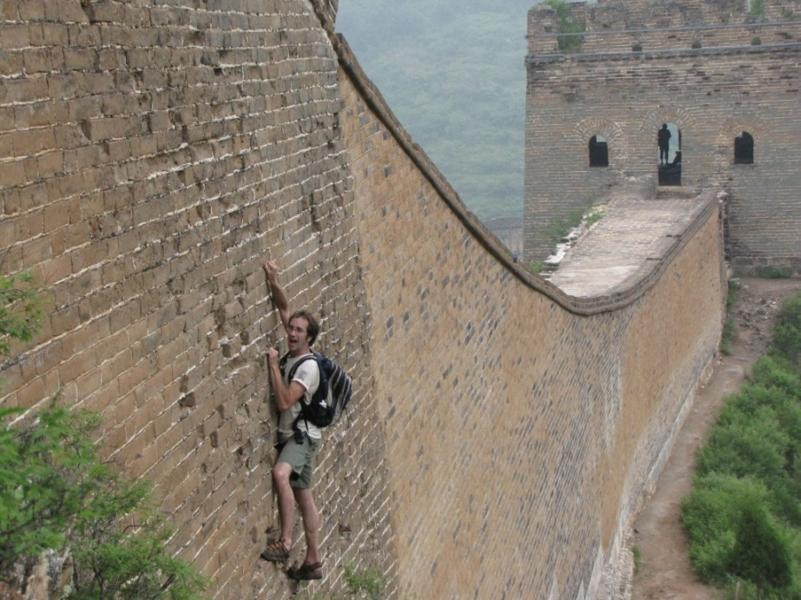person: (263, 257, 330, 580)
